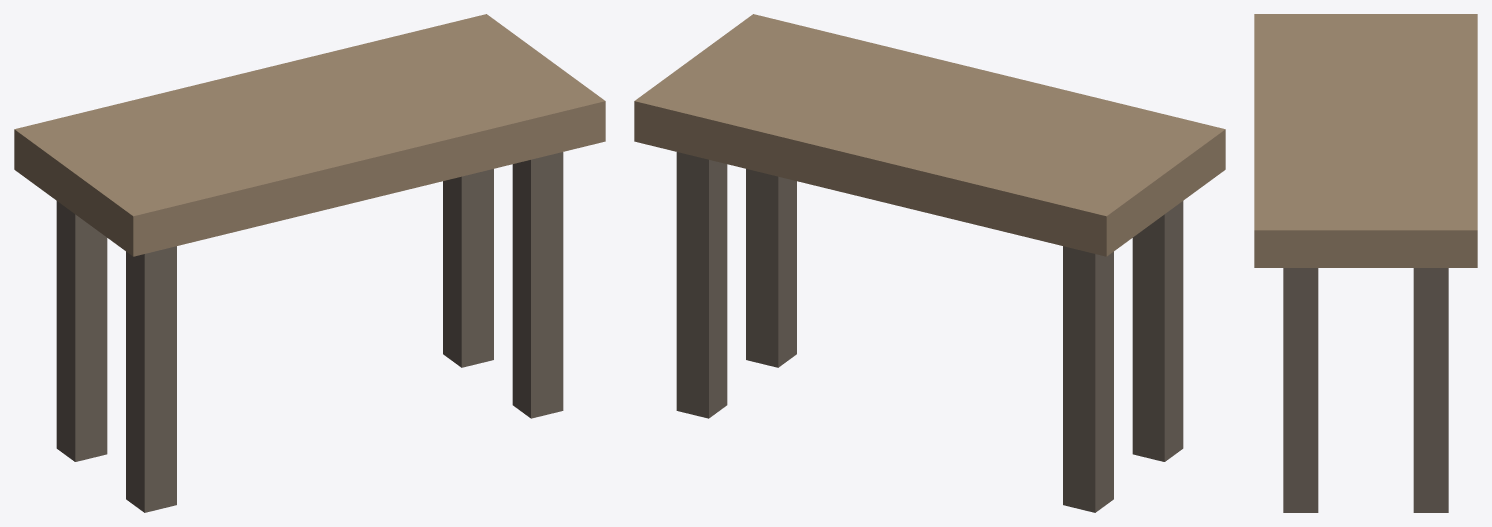
File: school_desk.glb
3 views of the same model, side by side, from view 1: azimuth 30°, elevation 25°; view 2: azimuth 150°, elevation 25°; view 3: azimuth 270°, elevation 25° (orthographic). The views are drawn at different scales.
Visible parts, largest first — view 1: body; view 2: body; view 3: body.
Part boxes in pixels (x1,y1,x2,y2): body: [14, 14, 605, 512]; body: [634, 14, 1225, 512]; body: [1254, 14, 1477, 512].
Size of the model in its own units: 1.1 by 0.7 by 0.48.
